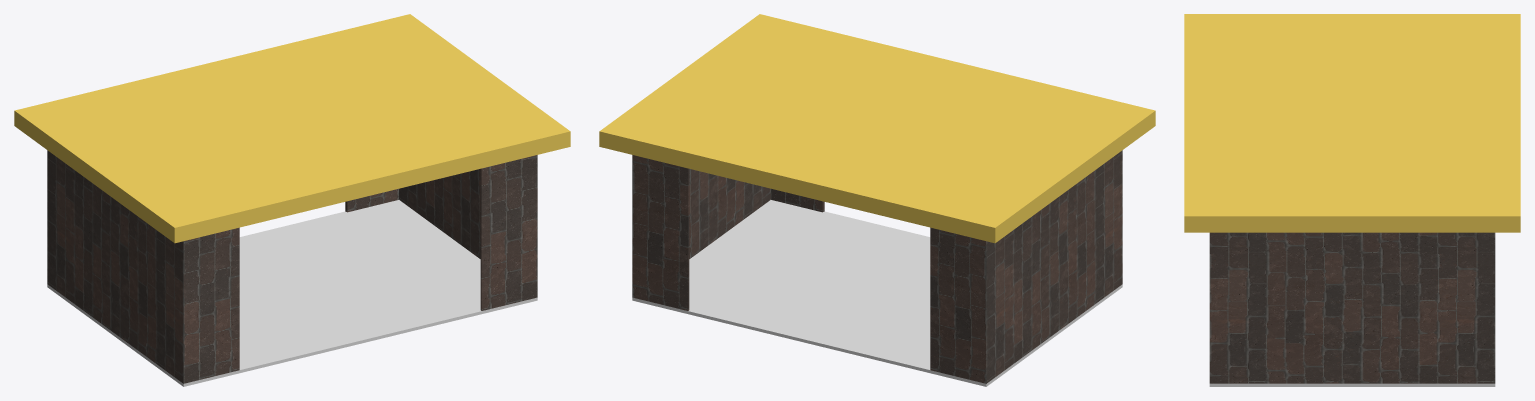
File: garage.gltf
3 views of the same model, side by side, from view 1: azimuth 30°, elevation 25°; view 2: azimuth 150°, elevation 25°; view 3: azimuth 270°, elevation 25° (orthographic). The views are drawn at different scales.
Parts seen in each view (by area): view 1: Cube; view 2: Cube; view 3: Cube.
Boxes of the visible parts, x1,y1,x2,y2 form: Cube: (14,14,570,386); Cube: (599,14,1155,386); Cube: (1184,14,1520,386).
Bounding box in the file's own units: 13.41 × 5.6 × 9.41.
3 materials, 1 textured.
